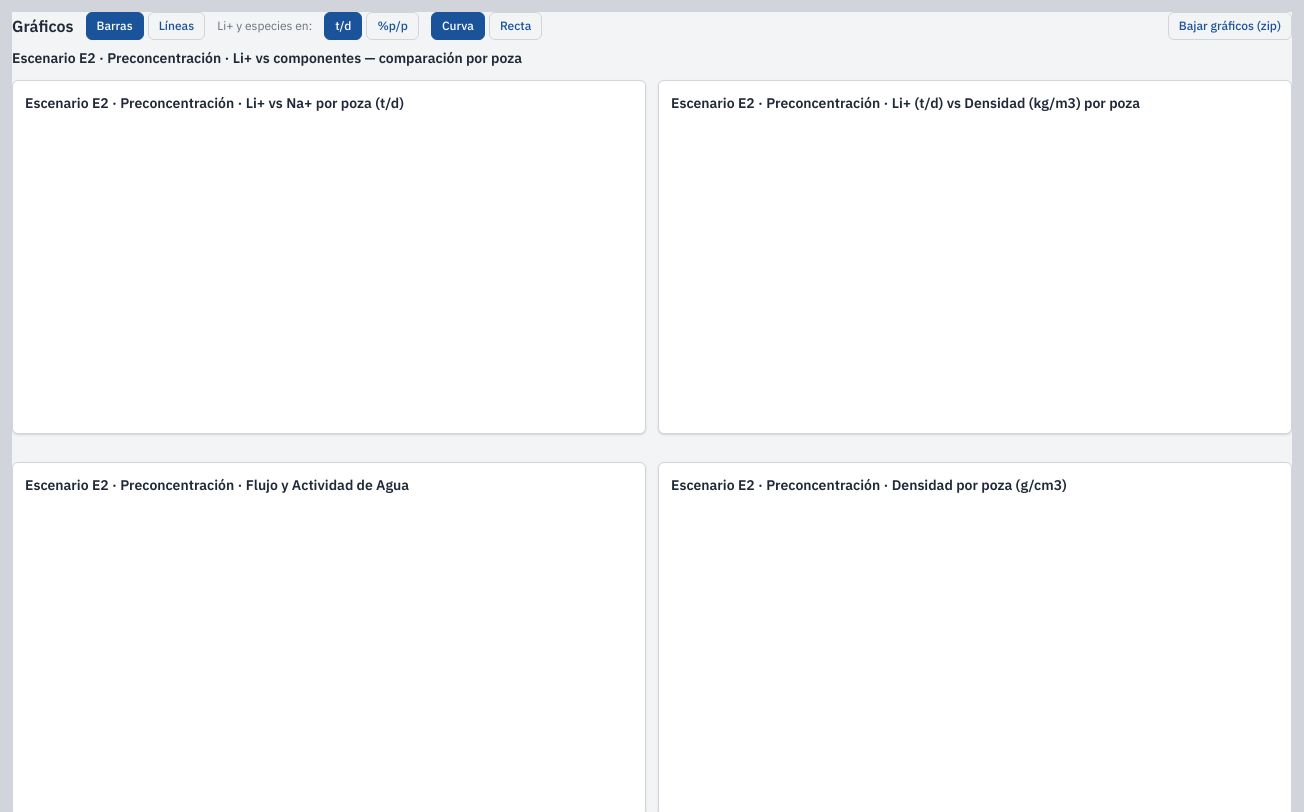
ReportCharts del estático › muestra los gráficos por poza del escenario elegido, con su clima
This screenshot has width=1304, height=812.
Expected: the heading "Escenario E2 · Preconcentración · Li+ vs Na+ por poza (t/d)" is shown, [25, 94, 404, 112]
Click the tab "%p/p" at (393, 26), box [366, 12, 419, 40]
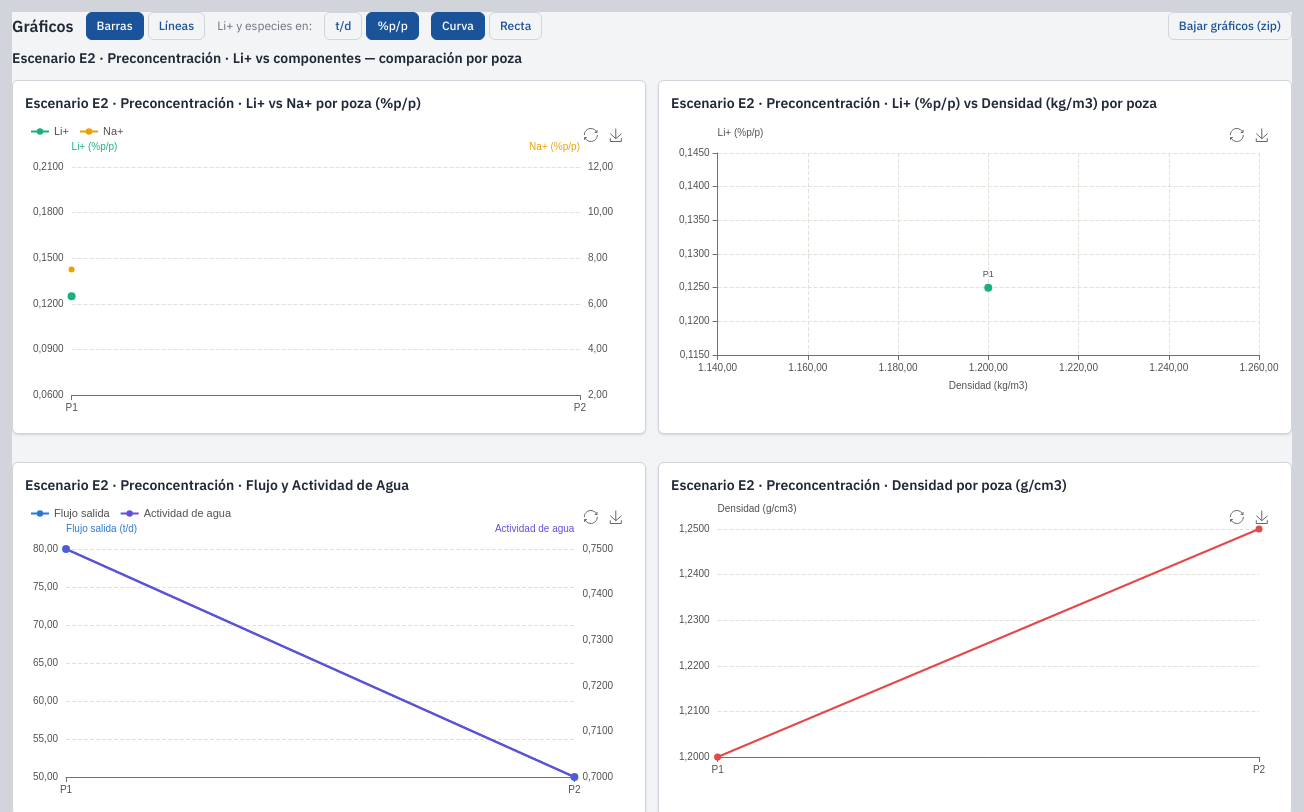
Expected: the heading "Escenario E2 · Preconcentración · Li+ vs Na+ por poza (%p/p)" is shown, [25, 94, 421, 112]
